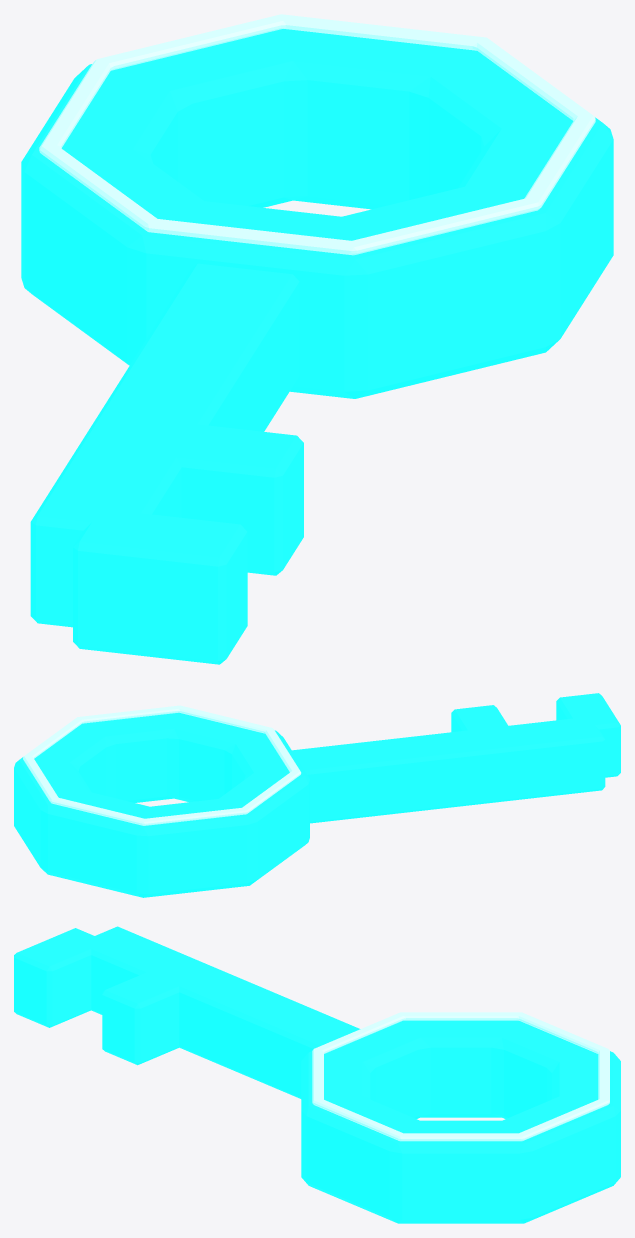
File: key.glb
3 renders of one model, top to bottom at view 1: azimuth 30°, elevation 25°; view 2: azimuth 150°, elevation 25°; view 3: azimuth 270°, elevation 25°, orthographic. The views are drawn at different scales.
Parts seen in each view (by area): view 1: key-cyan, key-edge; view 2: key-cyan, key-edge; view 3: key-cyan, key-edge.
Boxes of the visible parts, bbox=[...] form: key-cyan: bbox=[21, 29, 613, 664]; key-edge: bbox=[39, 14, 595, 255]; key-cyan: bbox=[14, 693, 620, 897]; key-edge: bbox=[23, 705, 301, 825]; key-cyan: bbox=[14, 926, 620, 1223]; key-edge: bbox=[312, 1012, 609, 1141].
Size of the model in its own units: 1.8 by 0.3074 by 2.
